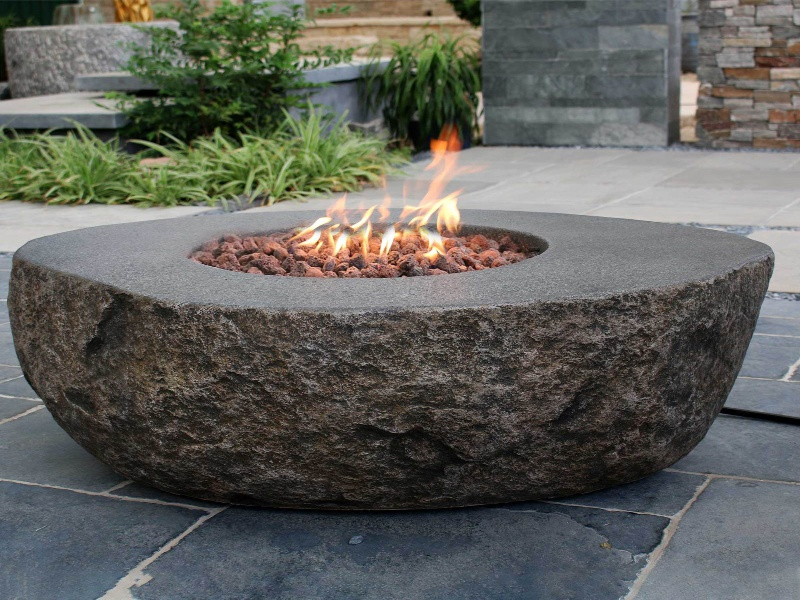fire: (420, 132, 464, 261), (301, 206, 413, 250)
